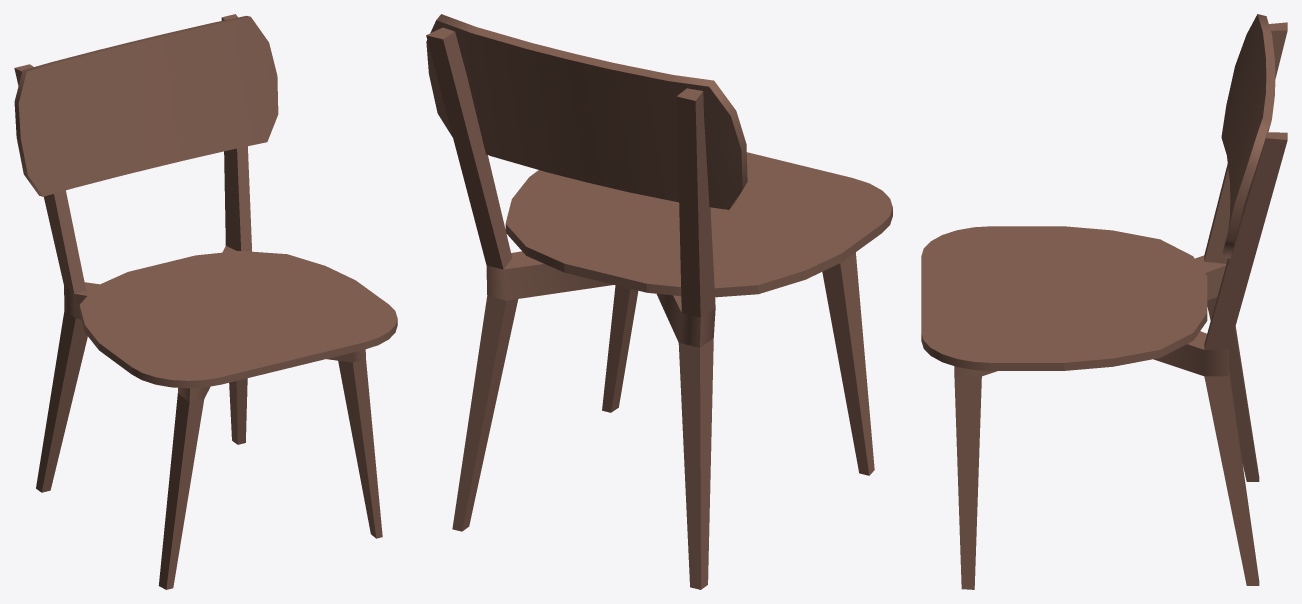
The model's file is chair.fbx.
The picture shows the model from 3 angles, left to right: view 1: azimuth 30°, elevation 25°; view 2: azimuth 150°, elevation 25°; view 3: azimuth 270°, elevation 25°; orthographic projection. The views are drawn at different scales.
Visible parts, largest first — view 1: pCylinder3; view 2: pCylinder3; view 3: pCylinder3.
Part boxes in pixels (left/top/right/bottom): pCylinder3: left=14, top=14, right=397, bottom=589; pCylinder3: left=426, top=14, right=892, bottom=589; pCylinder3: left=921, top=14, right=1287, bottom=589.
Size of the model in its own units: 21.56 by 33.66 by 24.4.
